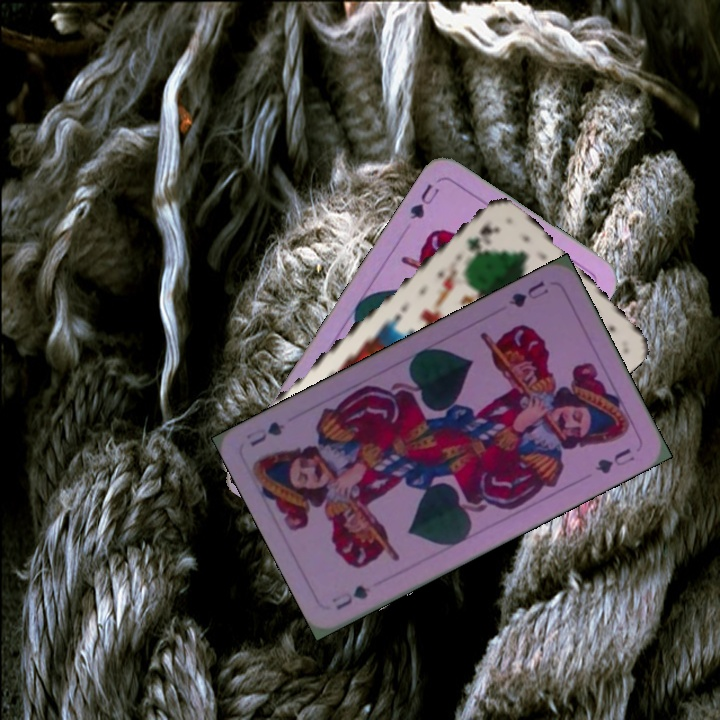GK: (462, 218, 502, 255)
GU: (405, 179, 442, 222), (505, 277, 551, 310), (327, 580, 373, 613)
